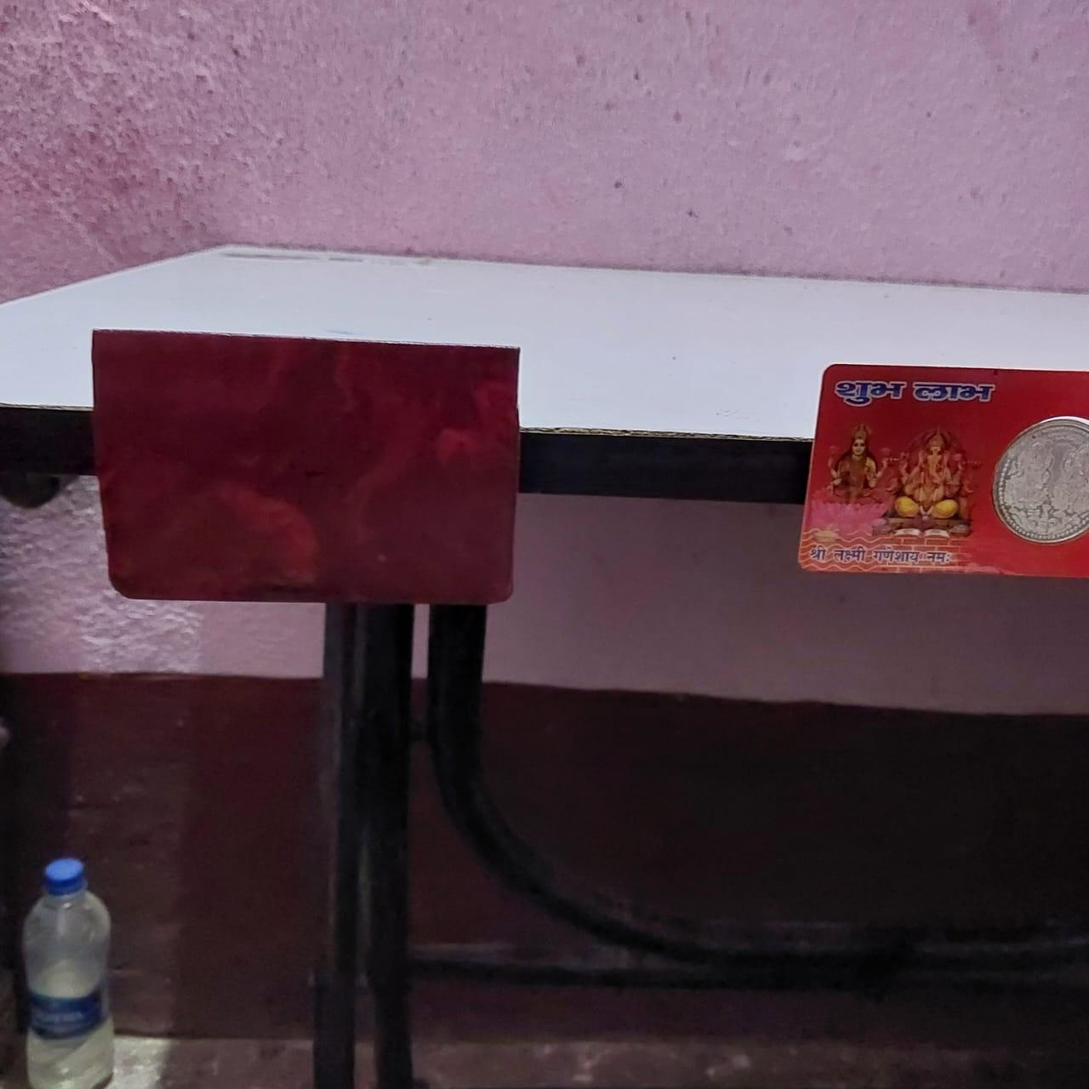blessing_card: (796, 358, 1088, 585)
wallet: (88, 322, 527, 596)
